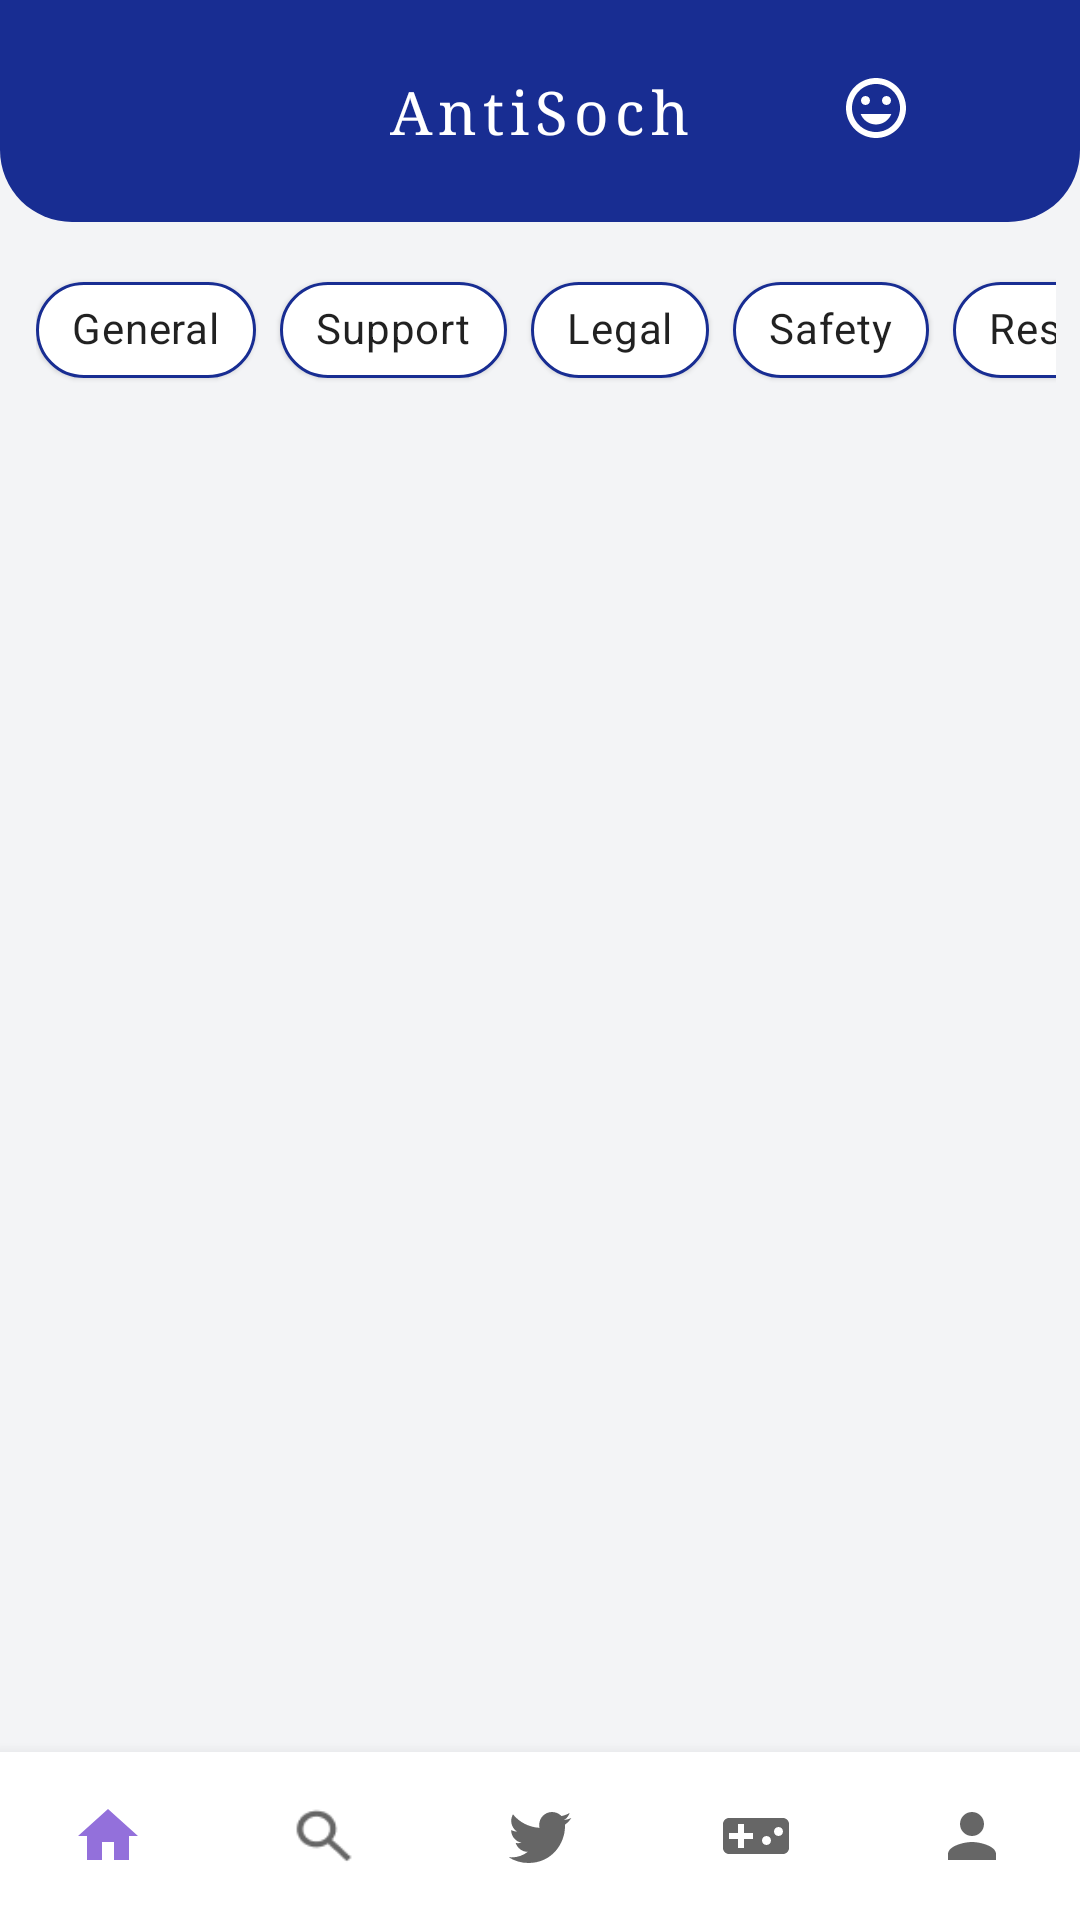

Named icons in this screenshot (1080px×1920px) and their centers, (x=x, y=y):
Smile: (x=876, y=108)
